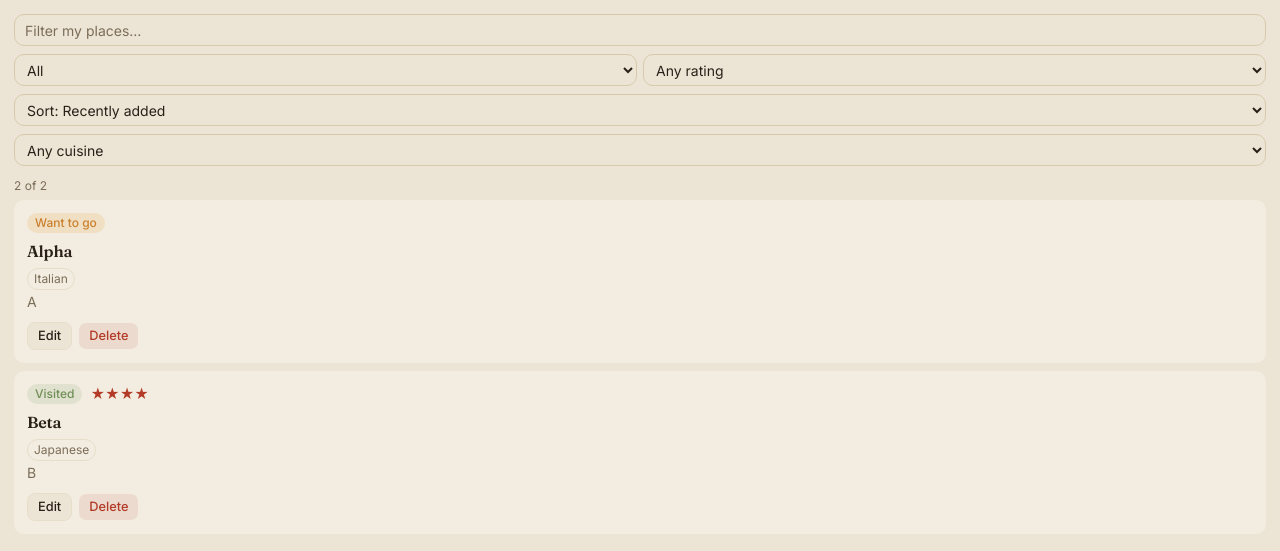
Test: PlaceList › filters by free-text search across name/address/cuisine/notes
In the field with placeholder "Filter my places…": {"x": 640, "y": 30} x1=14 y1=14 x2=1266 y2=46, type "japanese"
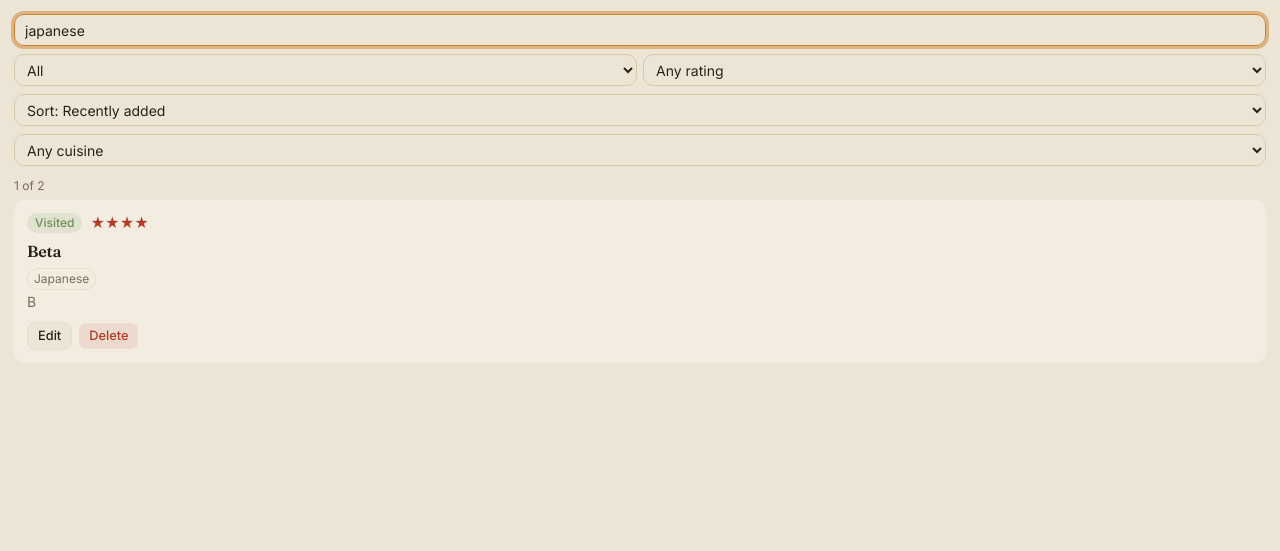
Check: the heading "Beta" is shown, box x1=27 y1=241 x2=62 y2=261
Check: the heading "Alpha" is gone
